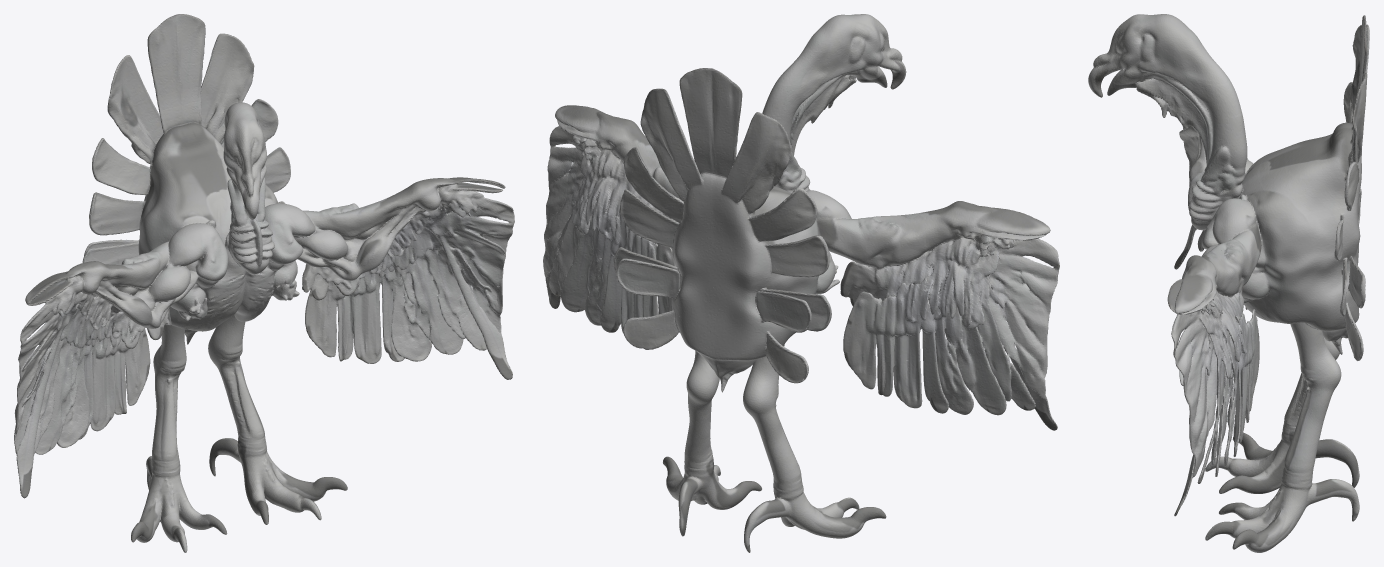
Rendered from tripo_convert_2680189a-6cf9-4f7b-8613-99db7ea4661f.obj.
The picture shows the model from 3 angles, left to right: view 1: azimuth 30°, elevation 25°; view 2: azimuth 150°, elevation 25°; view 3: azimuth 270°, elevation 25°; orthographic projection. The views are drawn at different scales.
Visible parts, largest first — view 1: tripo_node_2680189a-6cf9-4f7b-8613-99db7ea4661f; view 2: tripo_node_2680189a-6cf9-4f7b-8613-99db7ea4661f; view 3: tripo_node_2680189a-6cf9-4f7b-8613-99db7ea4661f.
Boxes of the visible parts, bbox=[...] form: tripo_node_2680189a-6cf9-4f7b-8613-99db7ea4661f: bbox=[14, 14, 514, 552]; tripo_node_2680189a-6cf9-4f7b-8613-99db7ea4661f: bbox=[543, 14, 1059, 552]; tripo_node_2680189a-6cf9-4f7b-8613-99db7ea4661f: bbox=[1088, 14, 1369, 552].
Size of the model in its own units: 1 by 0.9099 by 0.4716.
Materials: 1 (1 with a texture image).
